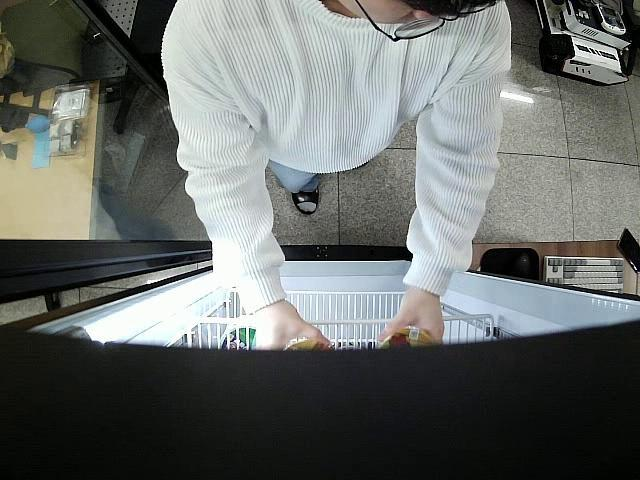04_chapagetti_S: (380, 325, 440, 348)
